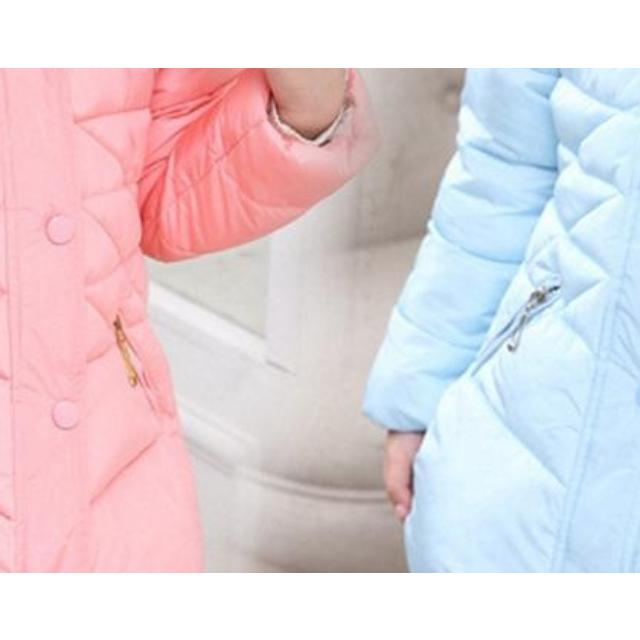cotton: (1, 68, 206, 572)
